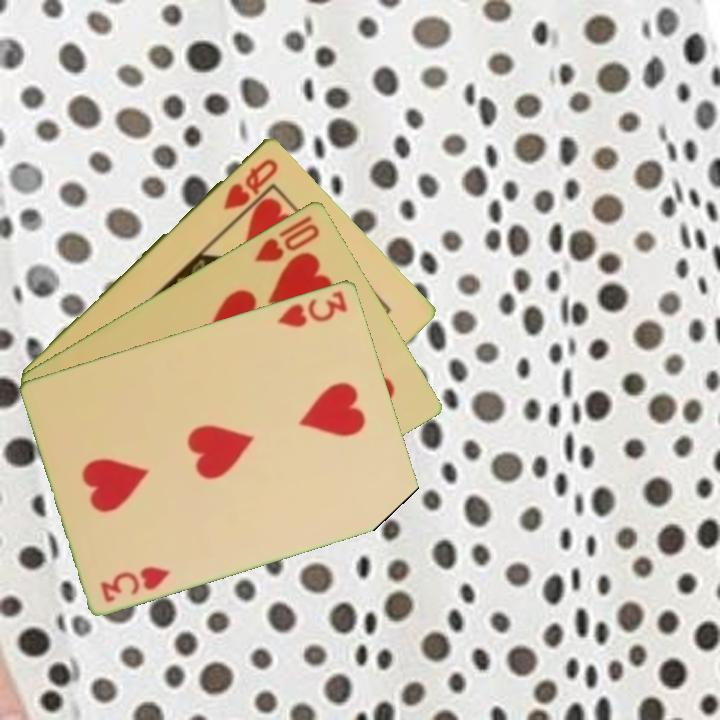10h: (251, 211, 323, 265)
3h: (274, 286, 351, 330), (97, 561, 174, 605)
Qh: (219, 154, 282, 213)
